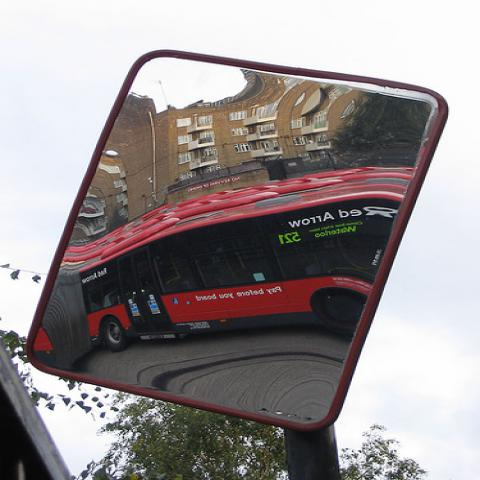bus: (25, 158, 420, 373)
